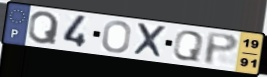4: (60, 13, 91, 51)
O: (100, 20, 133, 54)
P: (203, 31, 240, 67)
Q: (27, 10, 61, 46), (171, 30, 206, 63)
X: (131, 22, 168, 61)
